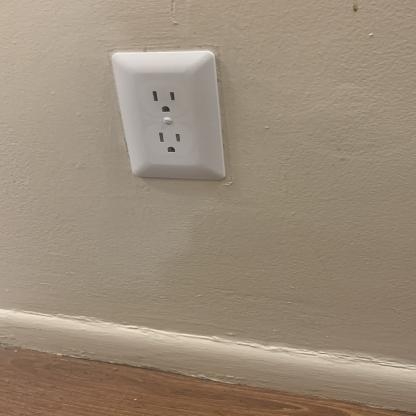OUTLET: (110, 50, 233, 186)
